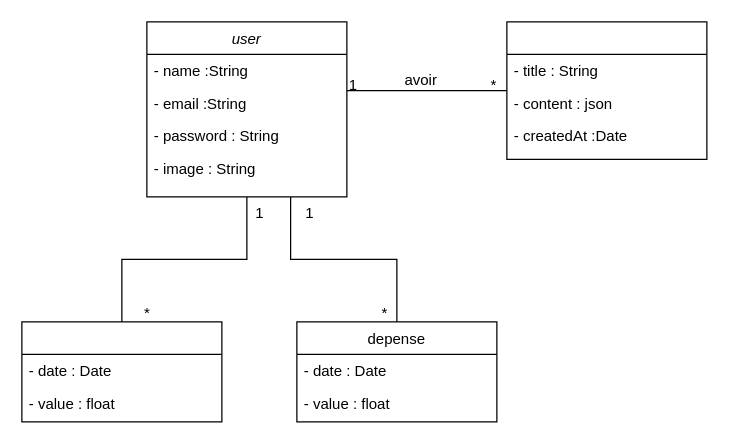
The diagram is 729 pixels wide and 445 high, and some of its shapes have lost their labels. Here are the shapes that lost their labels. From the top down, the box of each, then its label:
(506, 21, 707, 159): note
(21, 321, 222, 422): revenue
